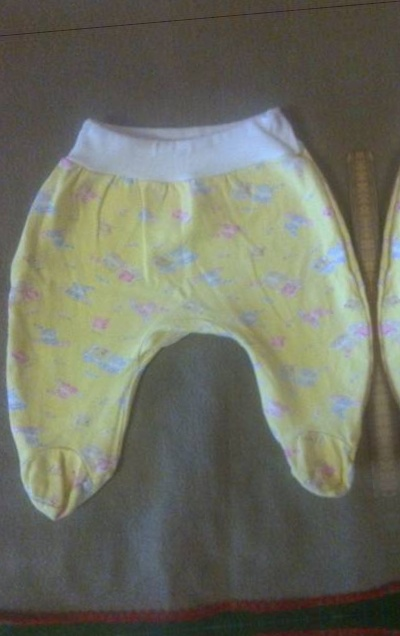Pants: (0, 93, 375, 544), (371, 58, 400, 509)
